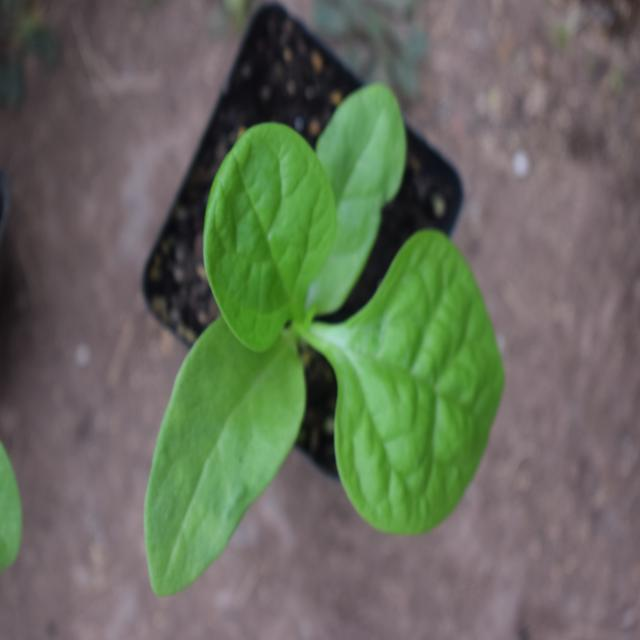Ceylon spinach: (130, 91, 496, 595)
